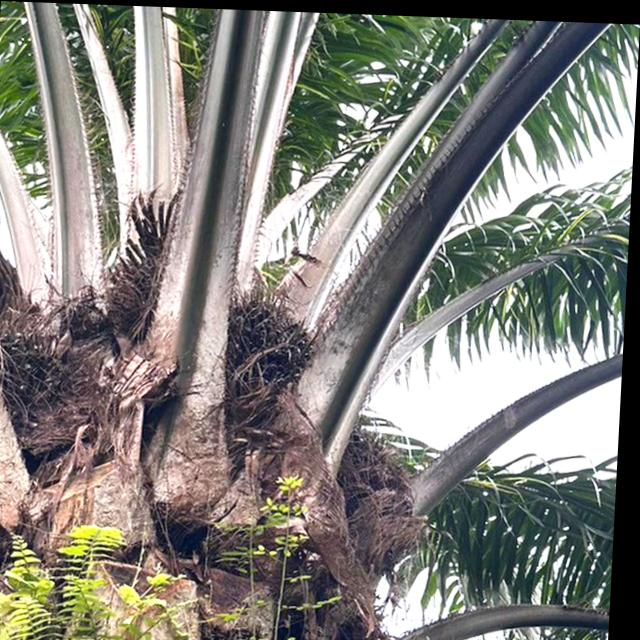unripe: (212, 276, 339, 429), (0, 310, 95, 462)
